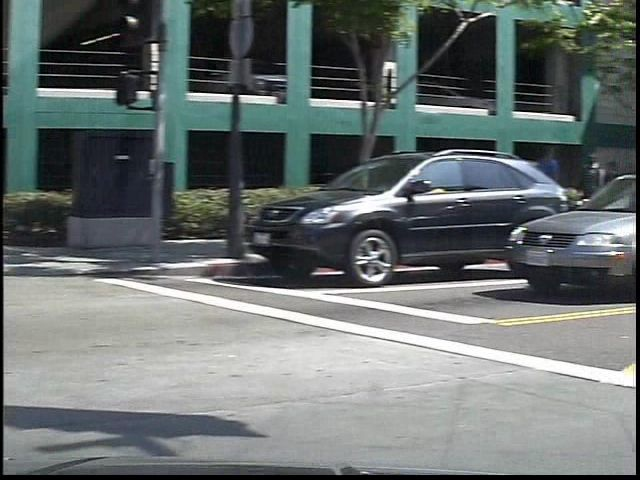person: (546, 145, 582, 242)
